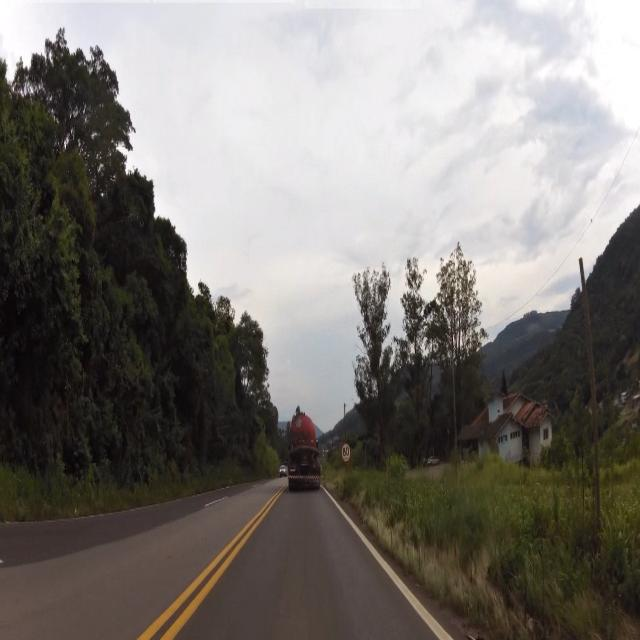R-19: (342, 442, 351, 464)
